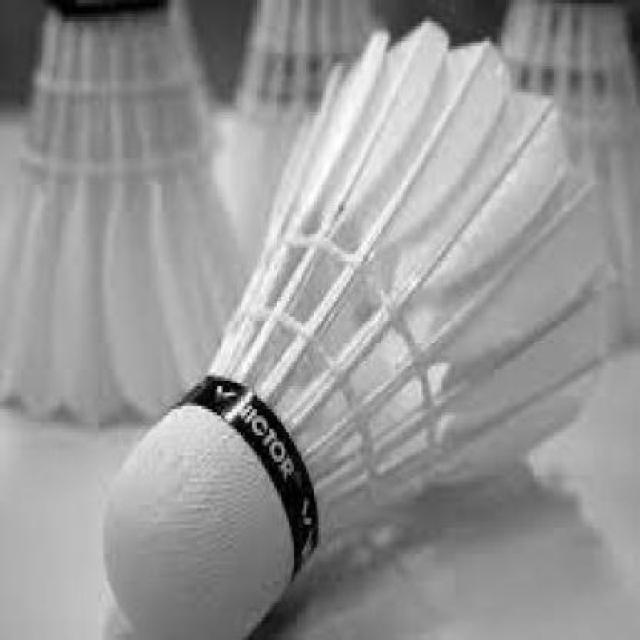Shuttlecock: (101, 16, 612, 638)
